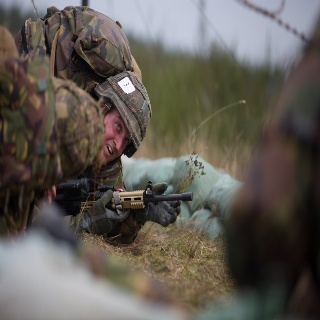rifle: (50, 176, 196, 223)
